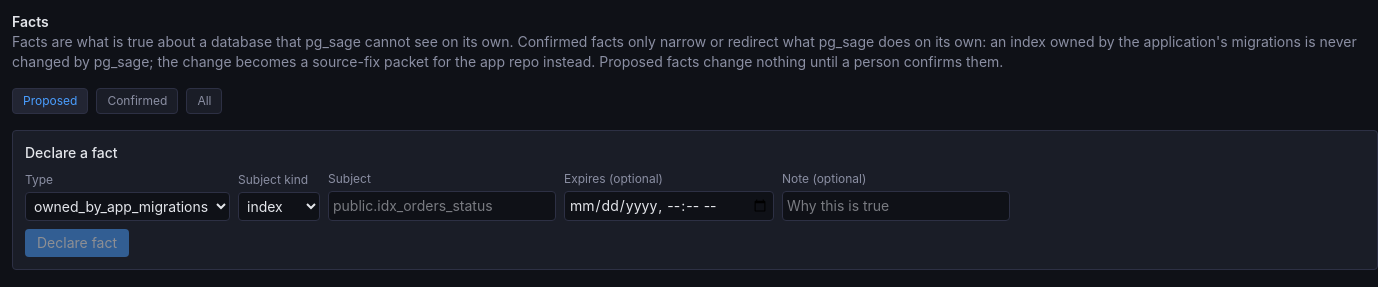
it: Declare a fact form › shows the value fields the type needs and no others
The width and height of the screenshot is (1378, 287).
Select "slot_consumer" in the dropdown with test id "declare-type" at (128, 206), box [25,192,230,221]
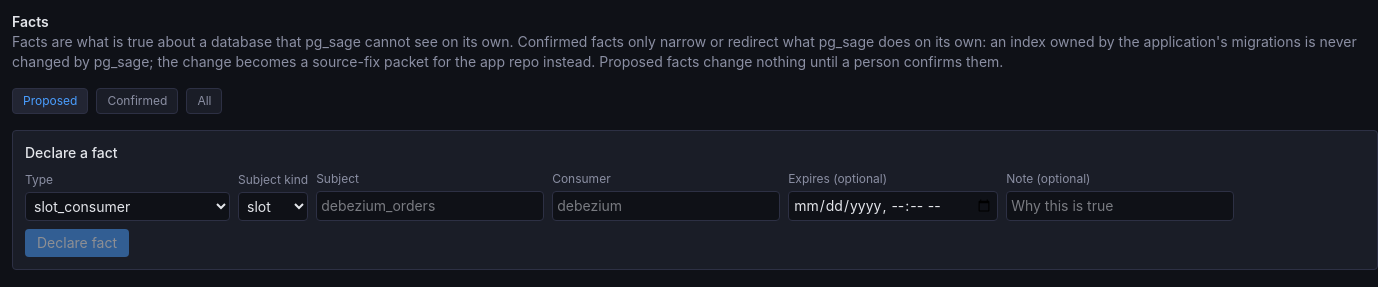
Now the field with test id "declare-consumer" is shown, box [552,191,780,221]
Select "table_window" in the dropdown with test id "declare-type" at (128, 206), box [25,192,230,221]
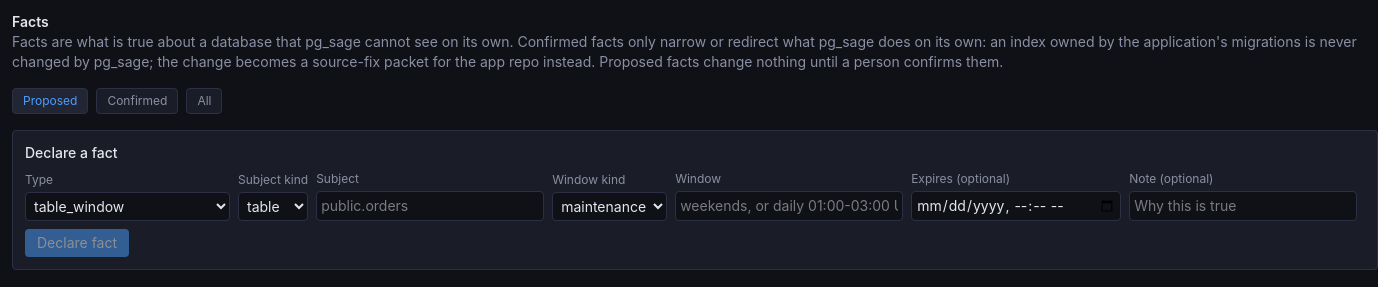
Now the field with test id "declare-consumer" is gone
Select "append_only" in the dropdown with test id "declare-type" at (128, 206), box [25,192,230,221]
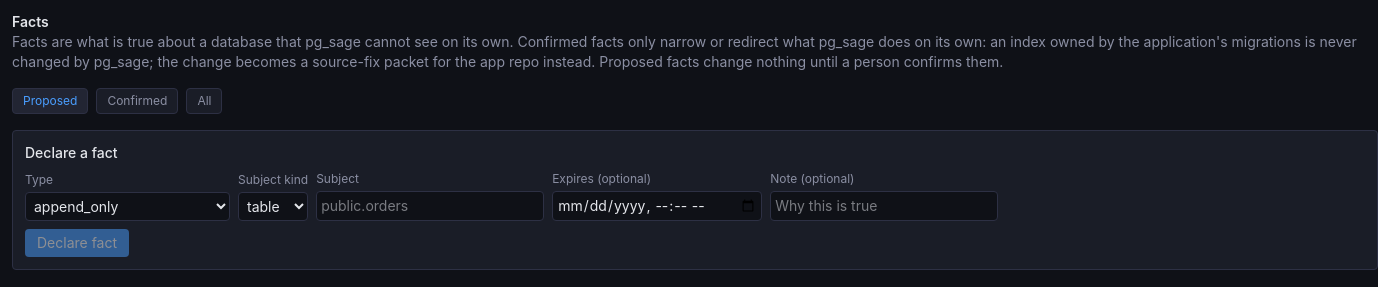
Now the dropdown with test id "declare-window-kind" is gone
Now the field with test id "declare-window" is gone
